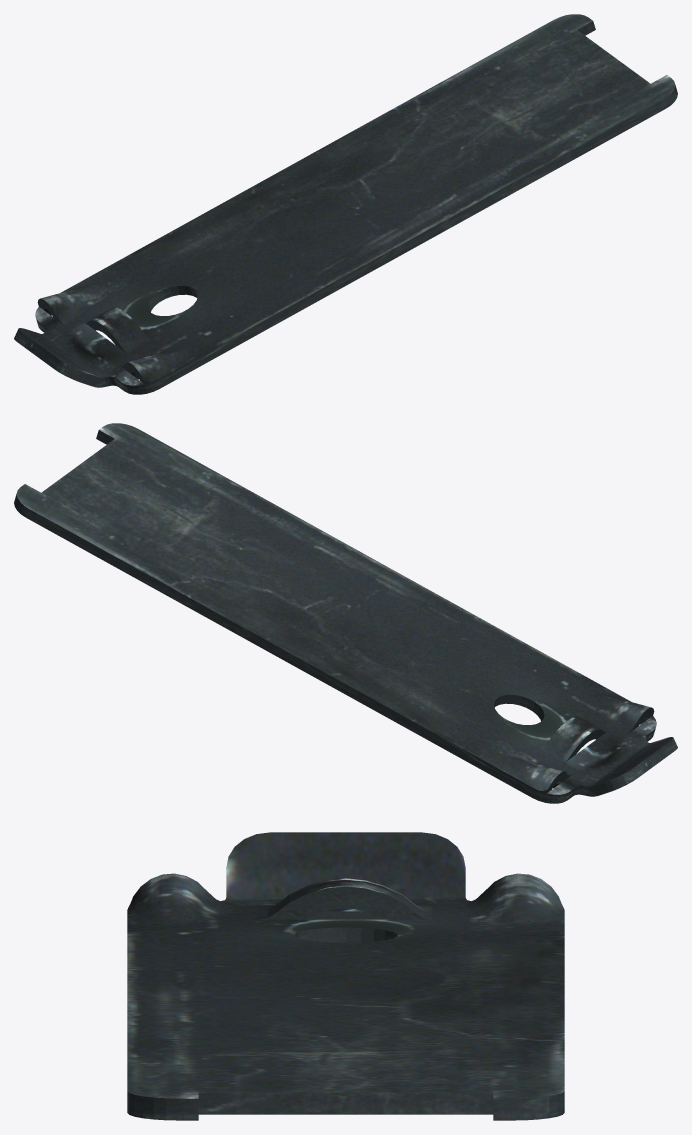
The picture shows the model from 3 angles, top to bottom: view 1: azimuth 30°, elevation 25°; view 2: azimuth 150°, elevation 25°; view 3: azimuth 270°, elevation 25°; orthographic projection. The views are drawn at different scales.
Visible parts, largest first — view 1: Base; view 2: Base; view 3: Base.
Part boxes in pixels (x1,y1,x2,y2): Base: (14, 14, 677, 394); Base: (14, 423, 677, 803); Base: (127, 832, 564, 1120).
Size of the model in its own units: 0.0613 by 0.0195 by 0.0179.
1 material, 1 textured.
